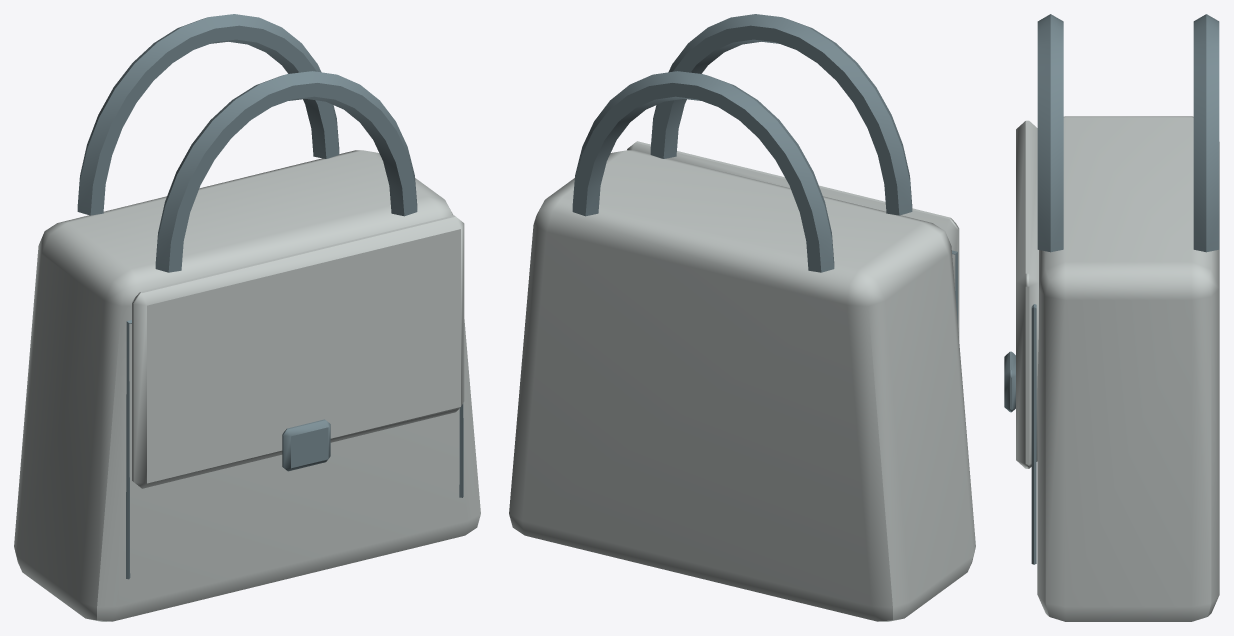
Rendered from handbag.glb.
3 views of the same model, side by side, from view 1: azimuth 30°, elevation 25°; view 2: azimuth 150°, elevation 25°; view 3: azimuth 270°, elevation 25° (orthographic).
Visible parts, largest first — view 1: bag_body, front_flap, leather_handle.001, leather_handle, clasp, stitched_edge; view 2: bag_body, leather_handle, leather_handle.001, front_flap; view 3: bag_body, front_flap, leather_handle.001, leather_handle, stitched_edge, clasp.
Part boxes in pixels (<box>): bag_body: <box>14,150,480,621</box>; front_flap: <box>132,215,464,488</box>; leather_handle.001: <box>155,71,417,272</box>; leather_handle: <box>77,14,339,215</box>; clasp: <box>282,419,330,471</box>; stitched_edge: <box>126,320,463,579</box>; bag_body: <box>509,150,975,621</box>; leather_handle: <box>572,71,834,272</box>; leather_handle.001: <box>650,14,912,215</box>; front_flap: <box>627,141,959,339</box>; bag_body: <box>1037,116,1219,621</box>; front_flap: <box>1016,120,1038,468</box>; leather_handle.001: <box>1037,14,1063,252</box>; leather_handle: <box>1193,14,1219,252</box>; stitched_edge: <box>1031,304,1036,564</box>; clasp: <box>1004,351,1015,412</box>.
Bounding box in the file's own units: 0.2771 × 0.339 × 0.13.
